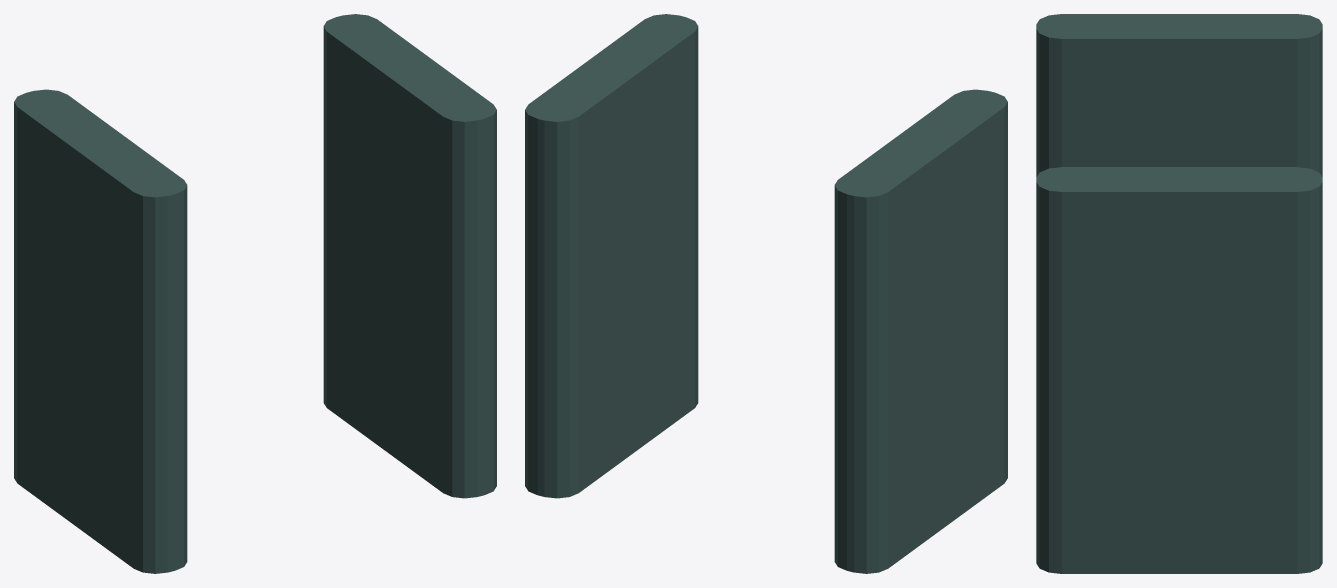
File: Door_Jamb.gltf
The picture shows the model from 3 angles, left to right: view 1: azimuth 30°, elevation 25°; view 2: azimuth 150°, elevation 25°; view 3: azimuth 270°, elevation 25°; orthographic projection.
Parts seen in each view (by area): view 1: Door_Jamb_baked; view 2: Door_Jamb_baked; view 3: Door_Jamb_baked.
Boxes of the visible parts, x1=… form: Door_Jamb_baked: x1=14, y1=14, x2=496, y2=573; Door_Jamb_baked: x1=525, y1=14, x2=1007, y2=573; Door_Jamb_baked: x1=1036, y1=14, x2=1322, y2=573.
Size of the model in its own units: 1 by 1 by 0.68.
